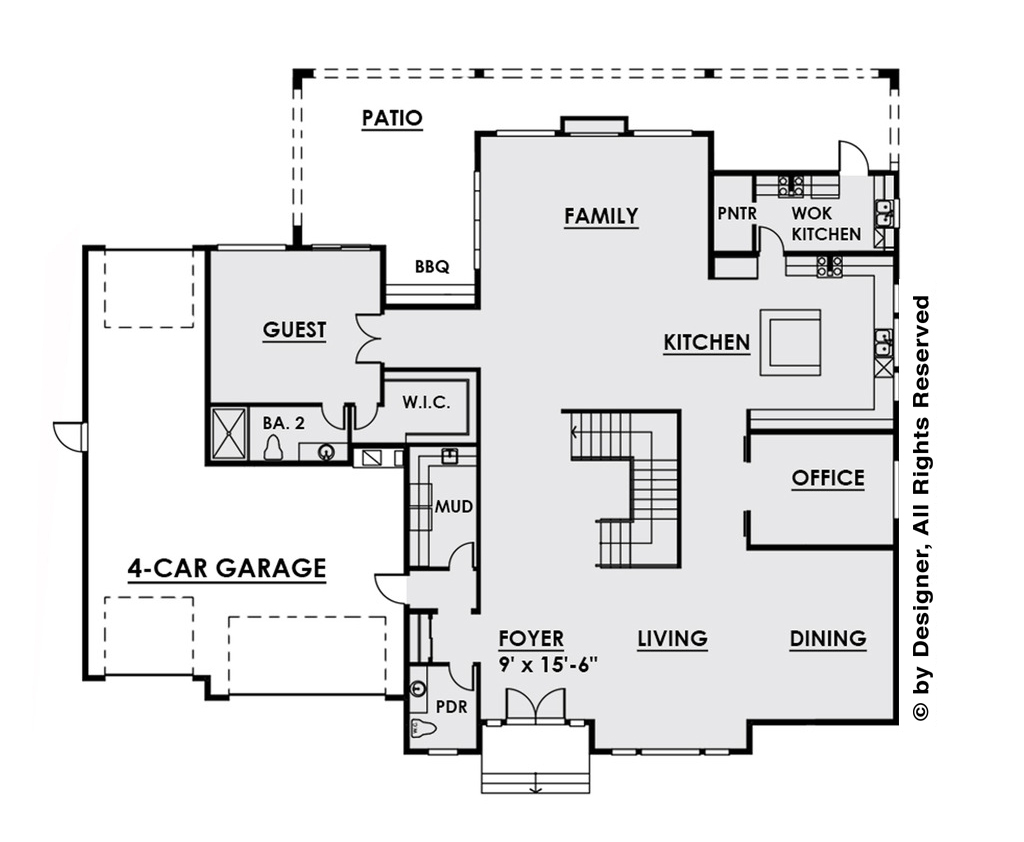door: (502, 685, 570, 723), (350, 309, 387, 370), (47, 419, 86, 455), (834, 138, 868, 177), (372, 570, 408, 604), (443, 663, 480, 693), (443, 542, 477, 568), (757, 225, 786, 255), (317, 402, 345, 430), (351, 401, 377, 431)
large_sink: (258, 428, 289, 464), (407, 712, 439, 744)
small_sink: (297, 443, 348, 465), (408, 666, 428, 714)
stairs: (560, 403, 689, 576), (478, 734, 594, 796)
twin_sink: (874, 195, 893, 224)
windows: (603, 744, 736, 759), (470, 166, 488, 272), (212, 239, 285, 258)
